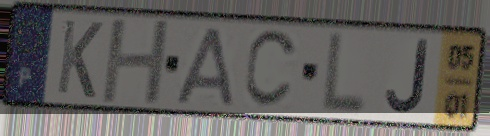A: (173, 24, 237, 109)
C: (241, 28, 302, 112)
H: (98, 17, 173, 106)
J: (383, 38, 432, 117)
K: (53, 16, 105, 102)
L: (317, 29, 369, 119)
